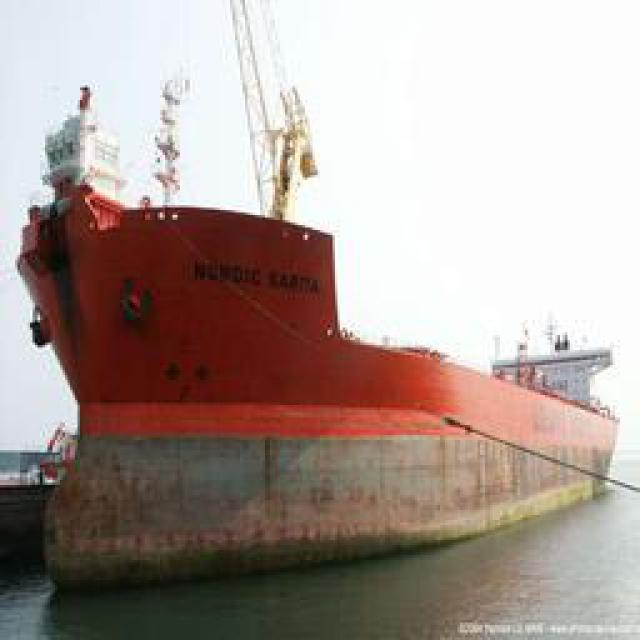Ship: (23, 161, 628, 604)
